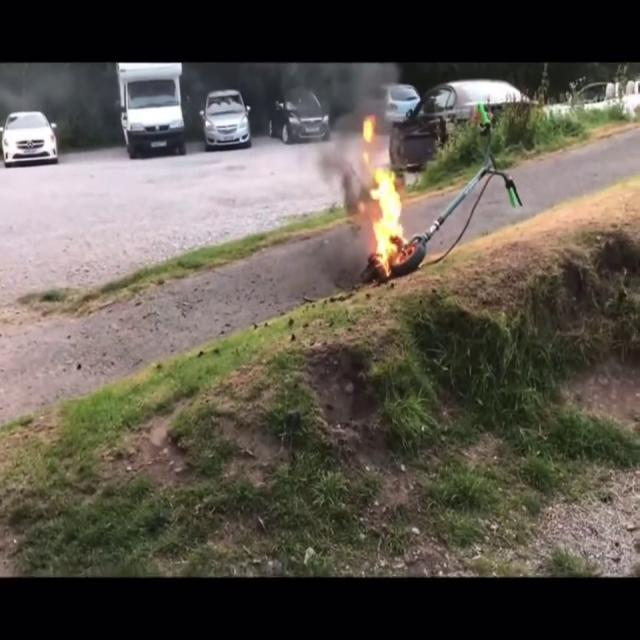Fire: (361, 113, 409, 274)
Smoke: (290, 59, 404, 175)
